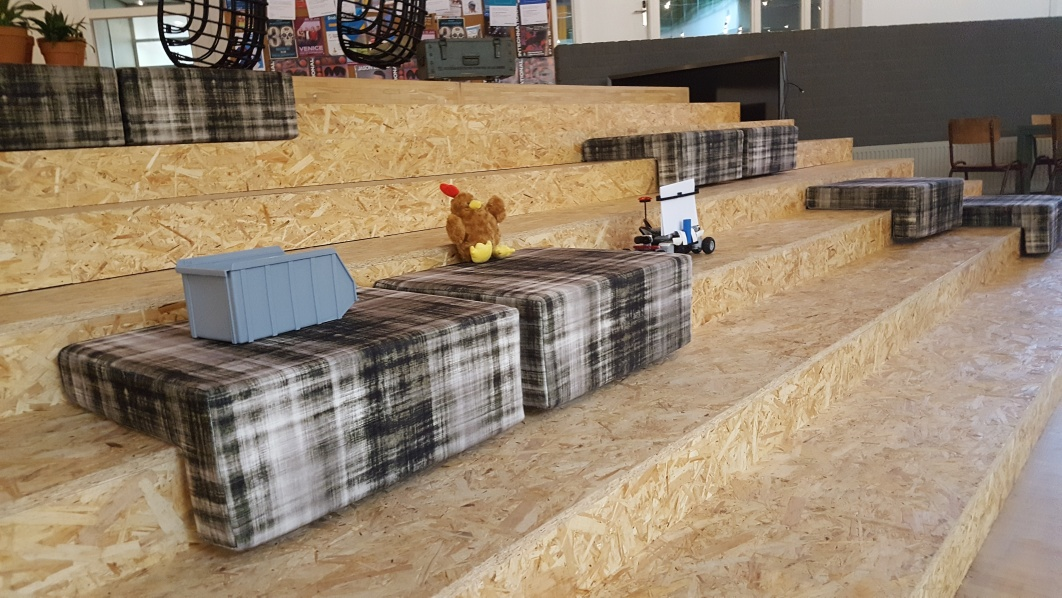beam: (681, 214, 694, 243)
chicken: (433, 181, 516, 262)
tray: (173, 244, 358, 344)
